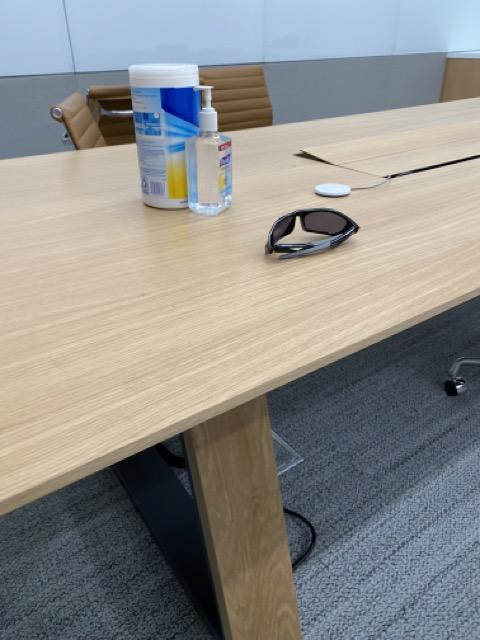Sunglasses: (266, 206, 361, 262)
